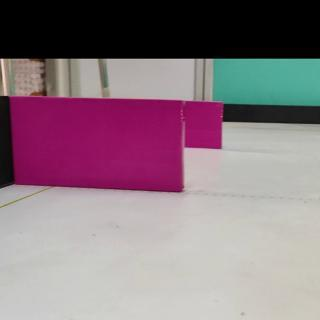xparking: (14, 98, 181, 187), (185, 102, 220, 147)
